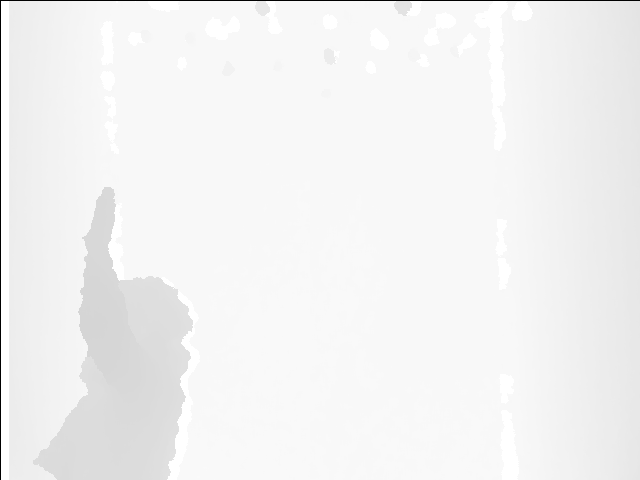hand: (78, 185, 120, 258)
